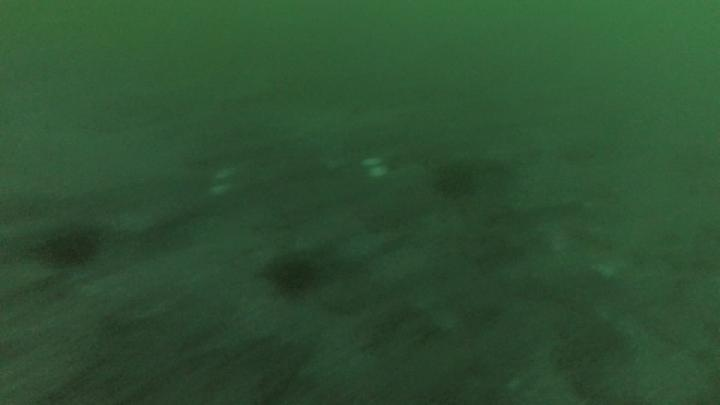echinus: (38, 221, 102, 270), (265, 251, 320, 299), (433, 158, 480, 200)
